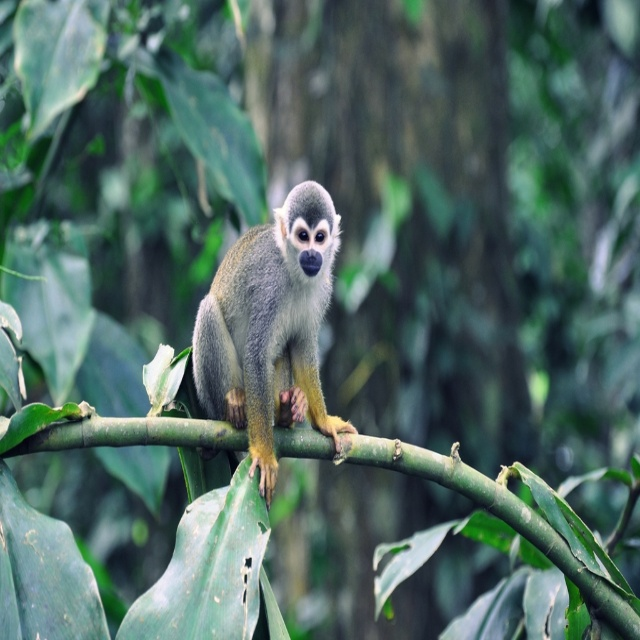Monkey: (191, 181, 359, 511)
